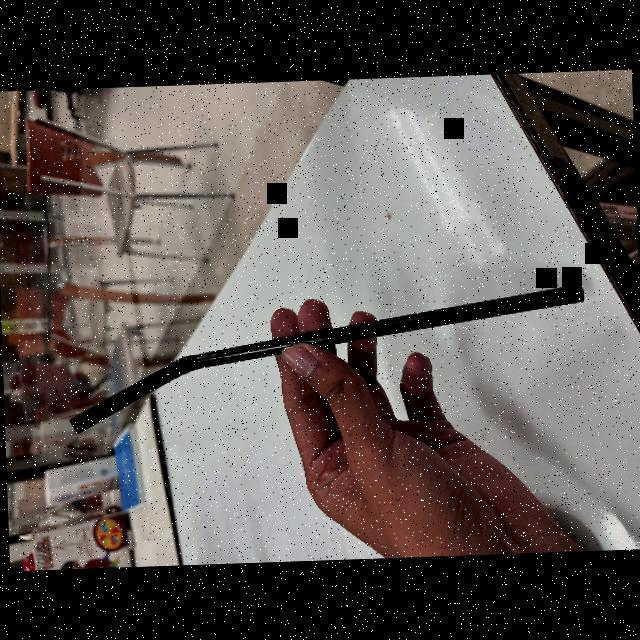straw: (62, 283, 584, 442)
